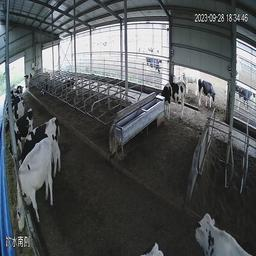cow: (10, 137, 58, 234), (188, 189, 248, 256), (15, 120, 61, 148), (158, 77, 185, 121), (9, 108, 35, 139), (198, 80, 218, 111), (181, 66, 199, 97), (6, 91, 25, 114)
